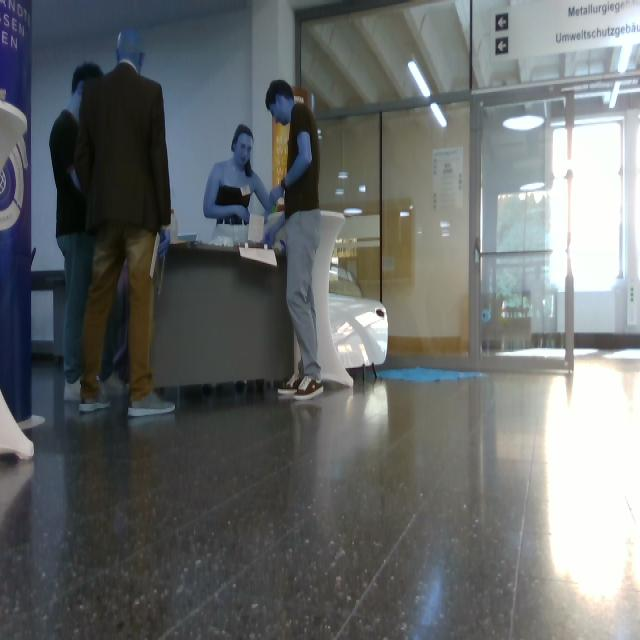light bulb: (117, 29, 145, 73), (504, 104, 545, 132), (553, 128, 572, 178), (408, 61, 431, 98), (409, 61, 430, 100), (430, 102, 447, 128), (619, 45, 632, 73)
person: (50, 64, 103, 398), (204, 125, 282, 224), (102, 301, 126, 382)
tiled floor: (1, 361, 640, 640)
